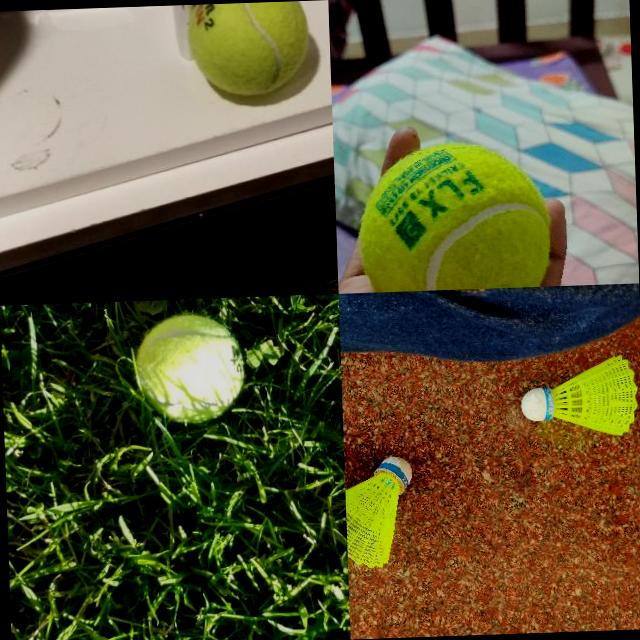Tennis Ball: (354, 139, 553, 292), (132, 312, 246, 426), (185, 0, 313, 100)
